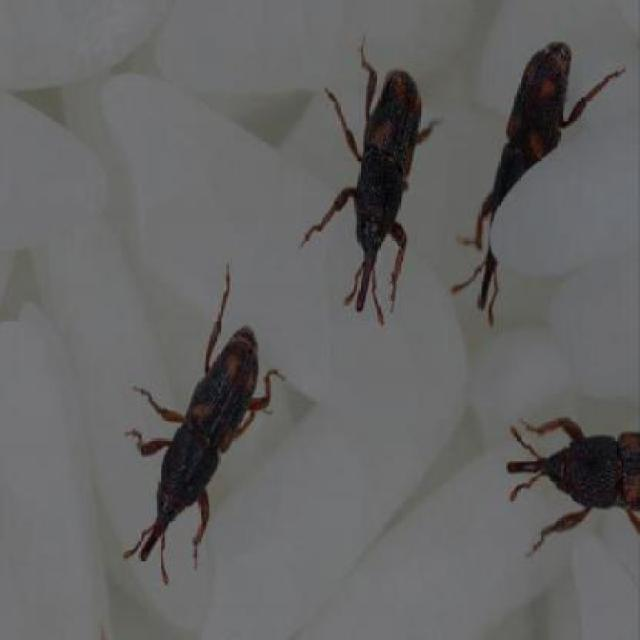rice-bug: (134, 288, 271, 575), (473, 41, 595, 316), (316, 50, 427, 308), (504, 402, 640, 555)
